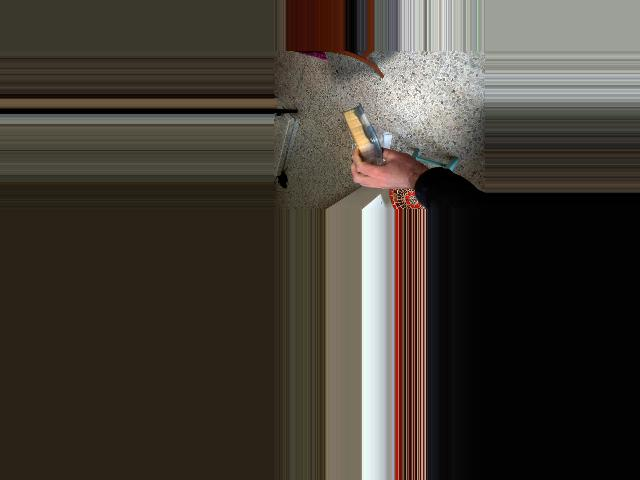cheese: (322, 100, 399, 195)
